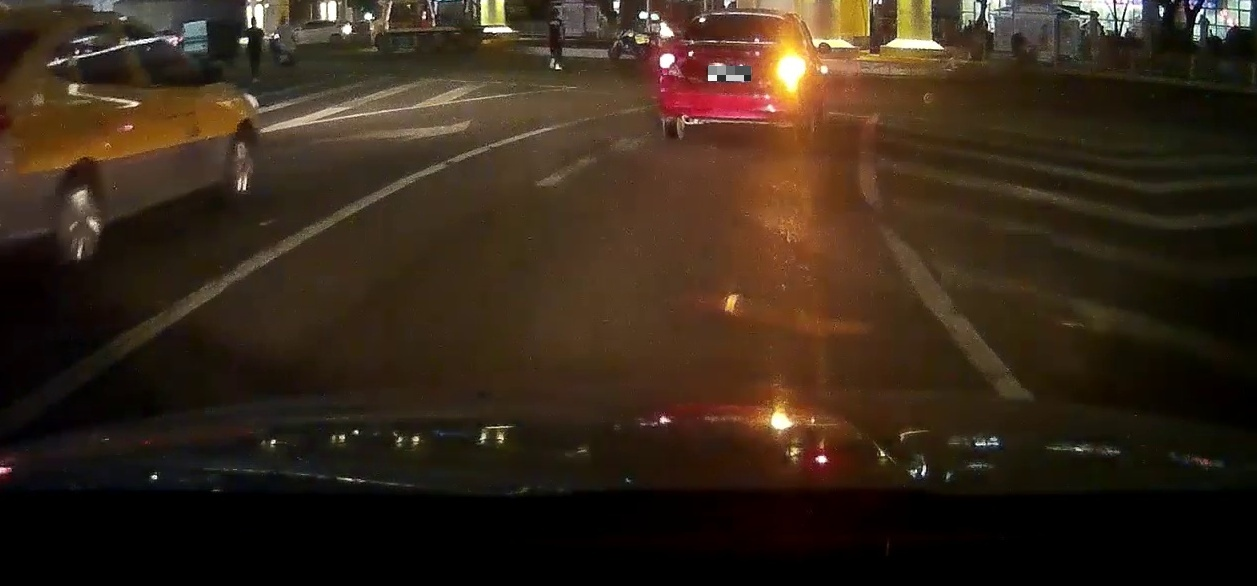L_light: (660, 54, 675, 68)
R_light: (776, 55, 806, 80)
T_light: (730, 14, 752, 18)
night-right: (659, 8, 807, 141)
plate_1: (708, 66, 751, 81)
